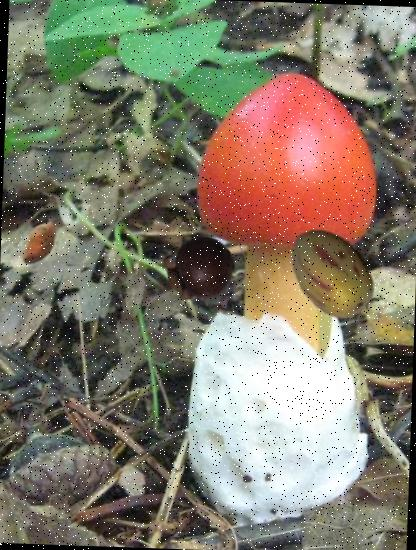Mangostan: (162, 232, 235, 306)
Pepino: (282, 223, 384, 325)
Potato: (14, 217, 67, 270)
